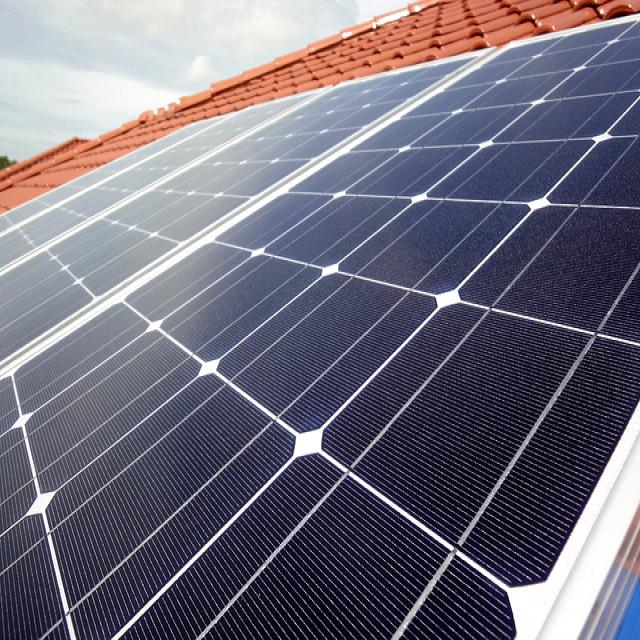dust: (175, 110, 362, 188), (18, 200, 104, 360)
